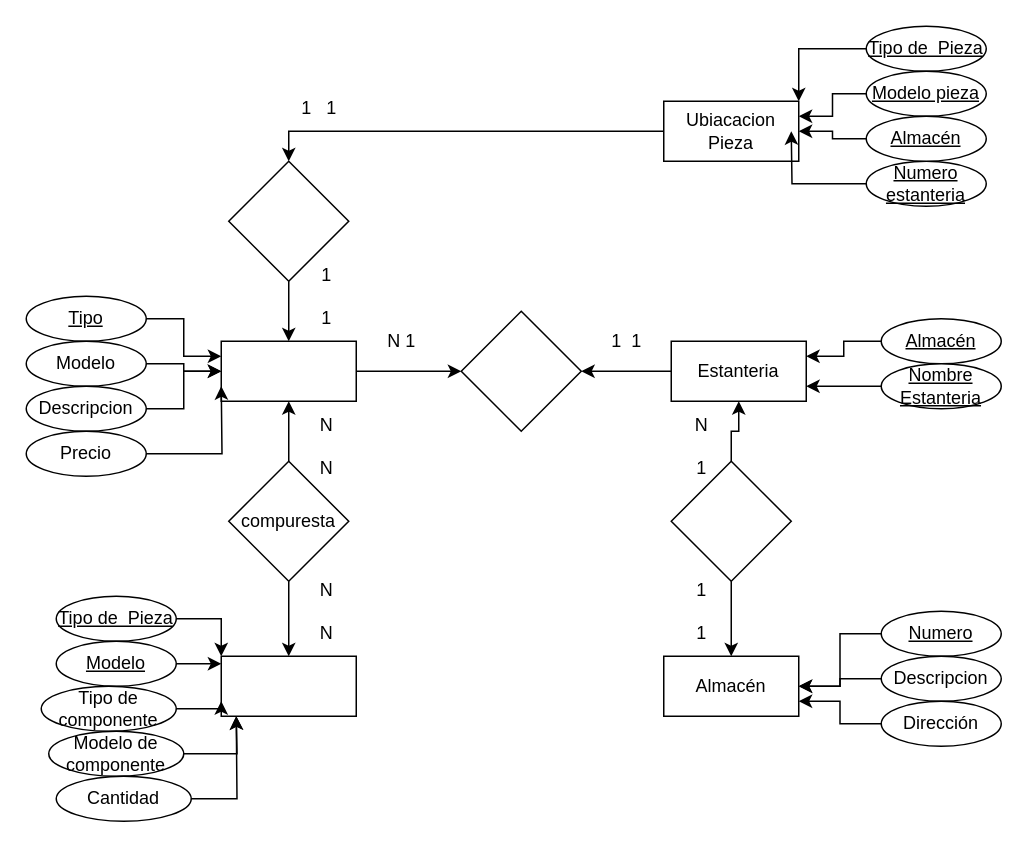
Some shapes in this 1028 by 848 pixel diagram are drawn without their labels. The shapes that lost their labels are listed below. From the top down, each one's box as (x1, y1, x2, y2) in pixels, then its label:
(227, 160, 349, 281): esta
(220, 340, 356, 401): Pieza
(460, 310, 581, 431): ubicada
(670, 460, 791, 581): tiene
(220, 655, 356, 716): Composicion de Pieza
